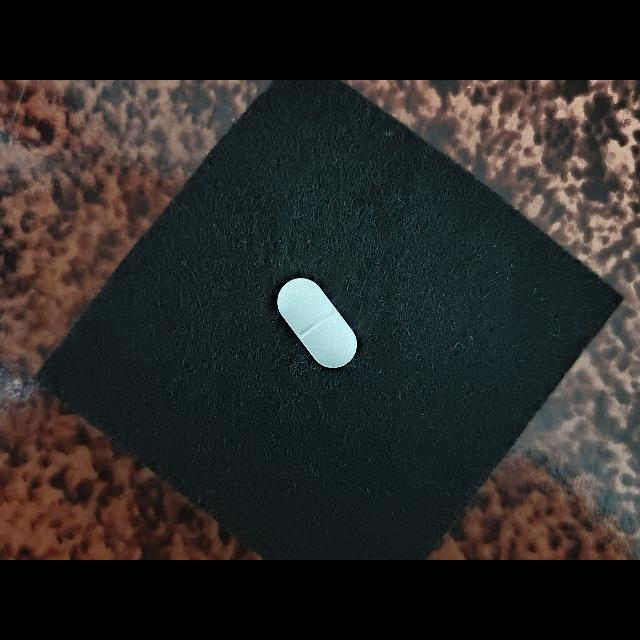Intact Pill: (277, 278, 357, 369)
